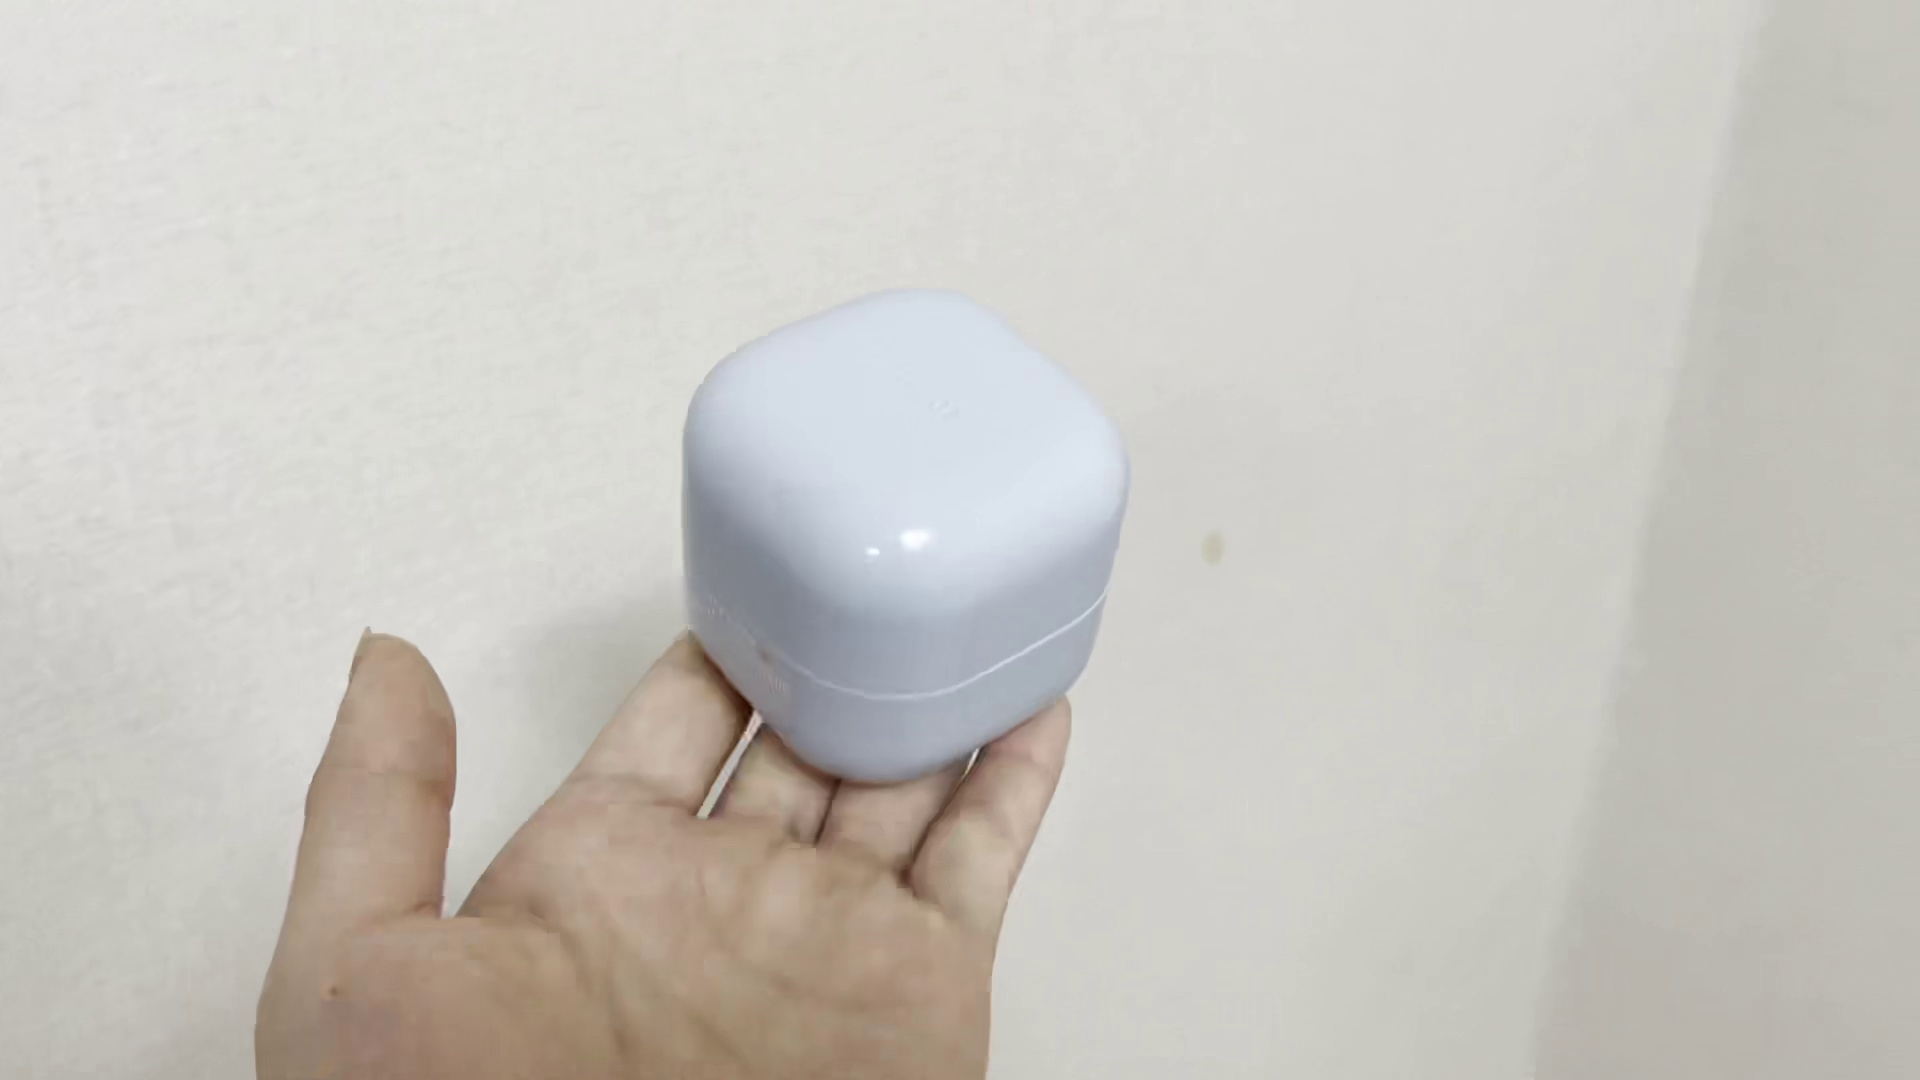cream: (691, 286, 1122, 771)
